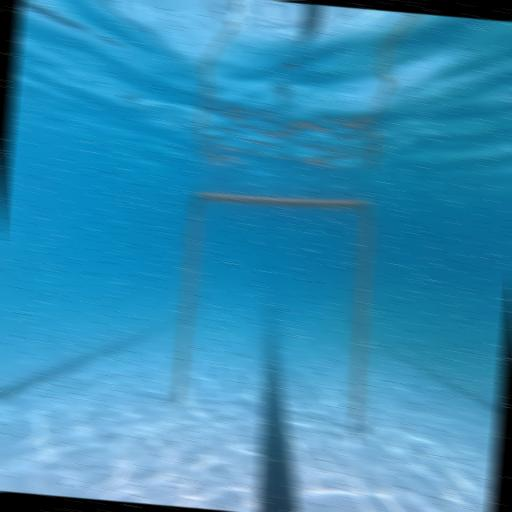gate: (171, 185, 390, 435)
